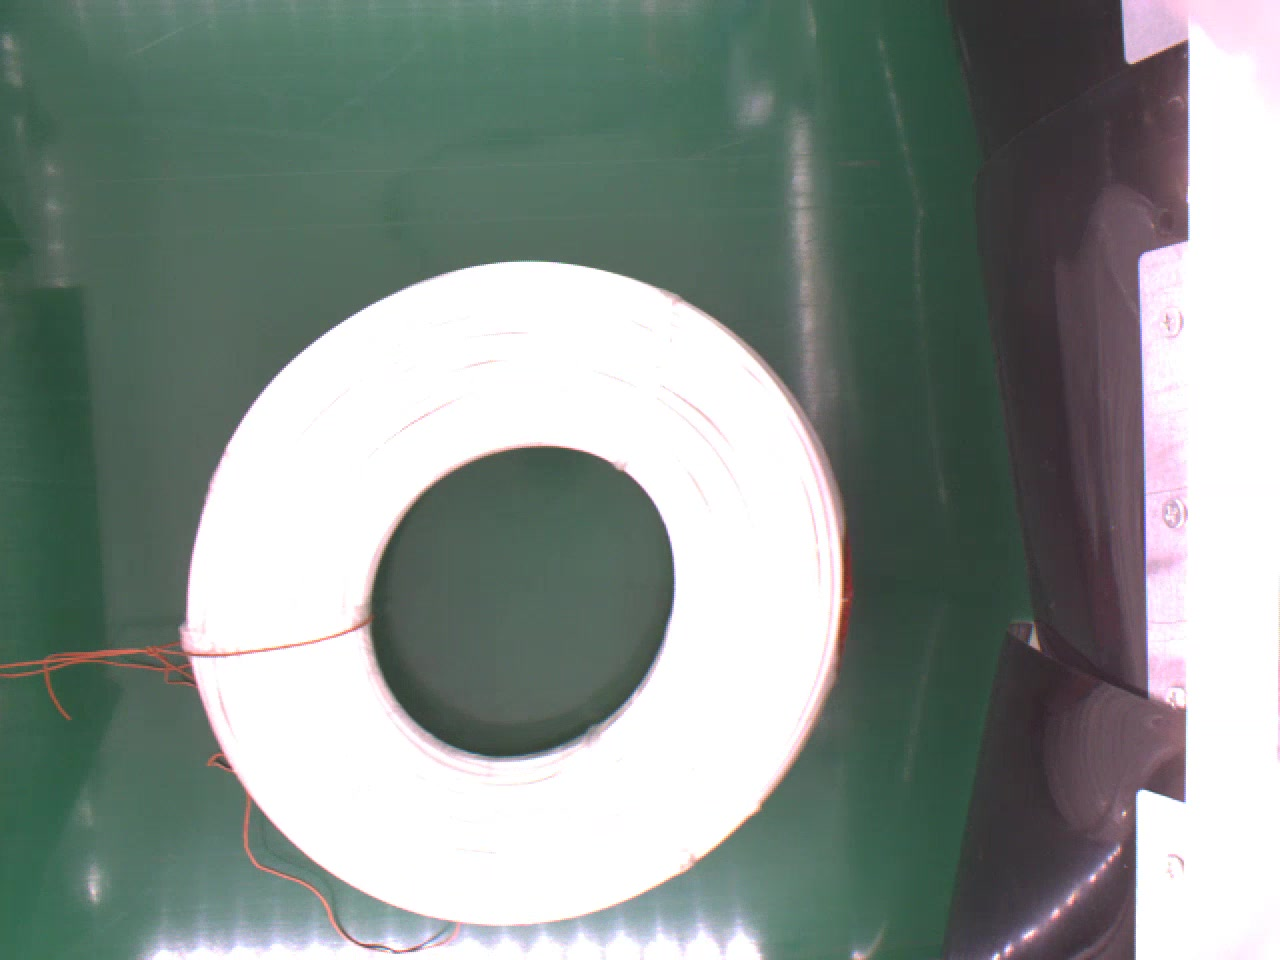white: (179, 252, 837, 923)
